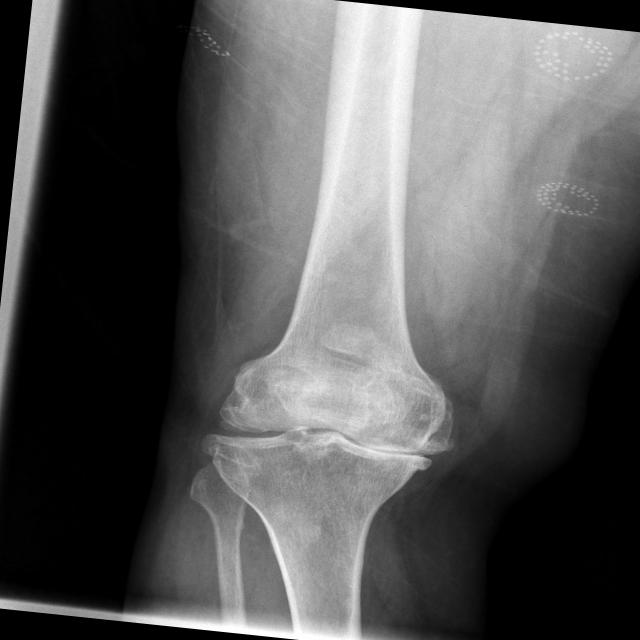Knee: (197, 338, 462, 510)
